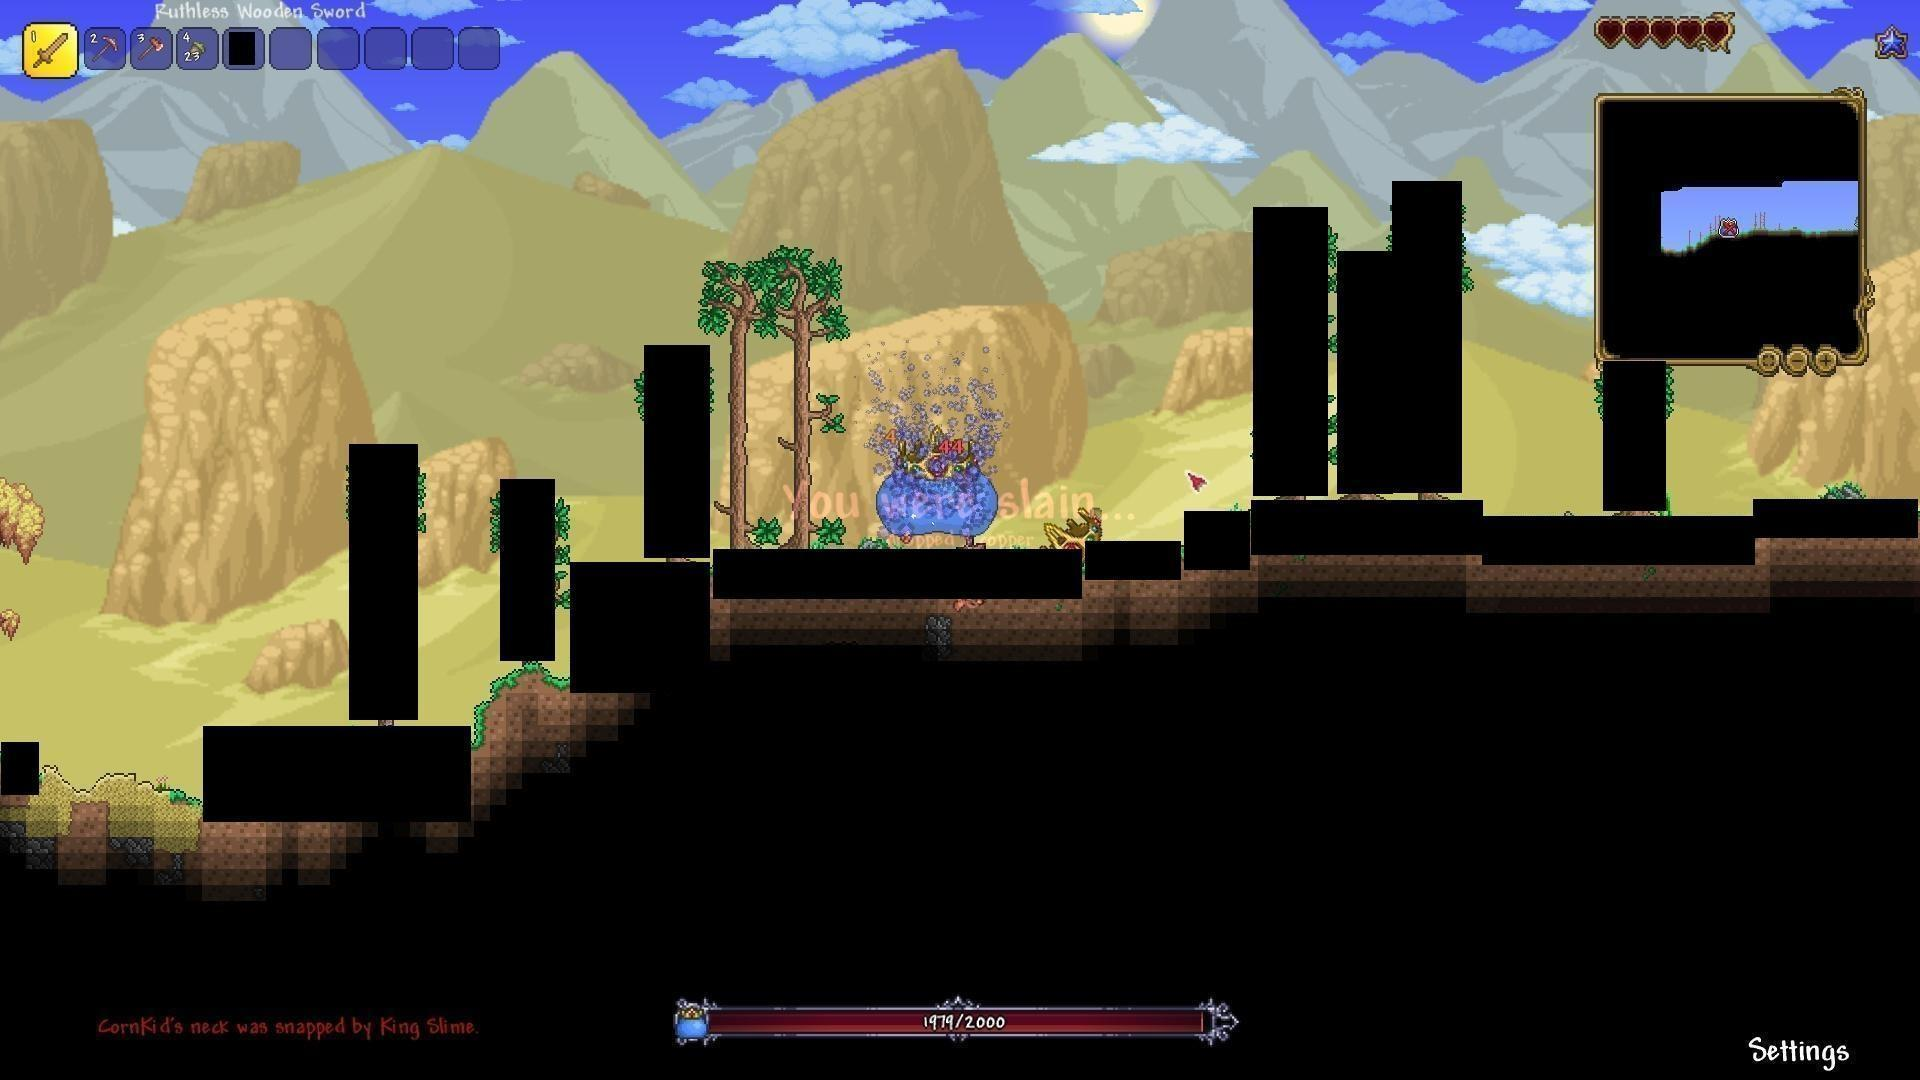dirt: (473, 665, 567, 760)
tree: (767, 243, 843, 546), (711, 251, 765, 546)
